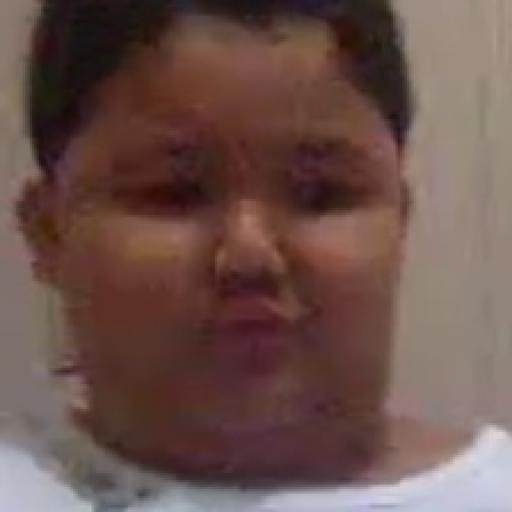Autism: (27, 0, 512, 512)
